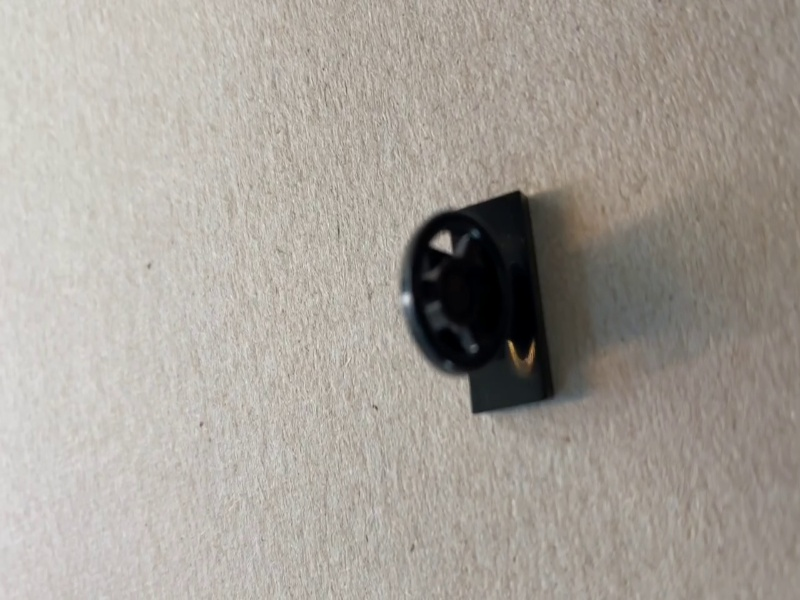steering wheel: (400, 190, 557, 414)
